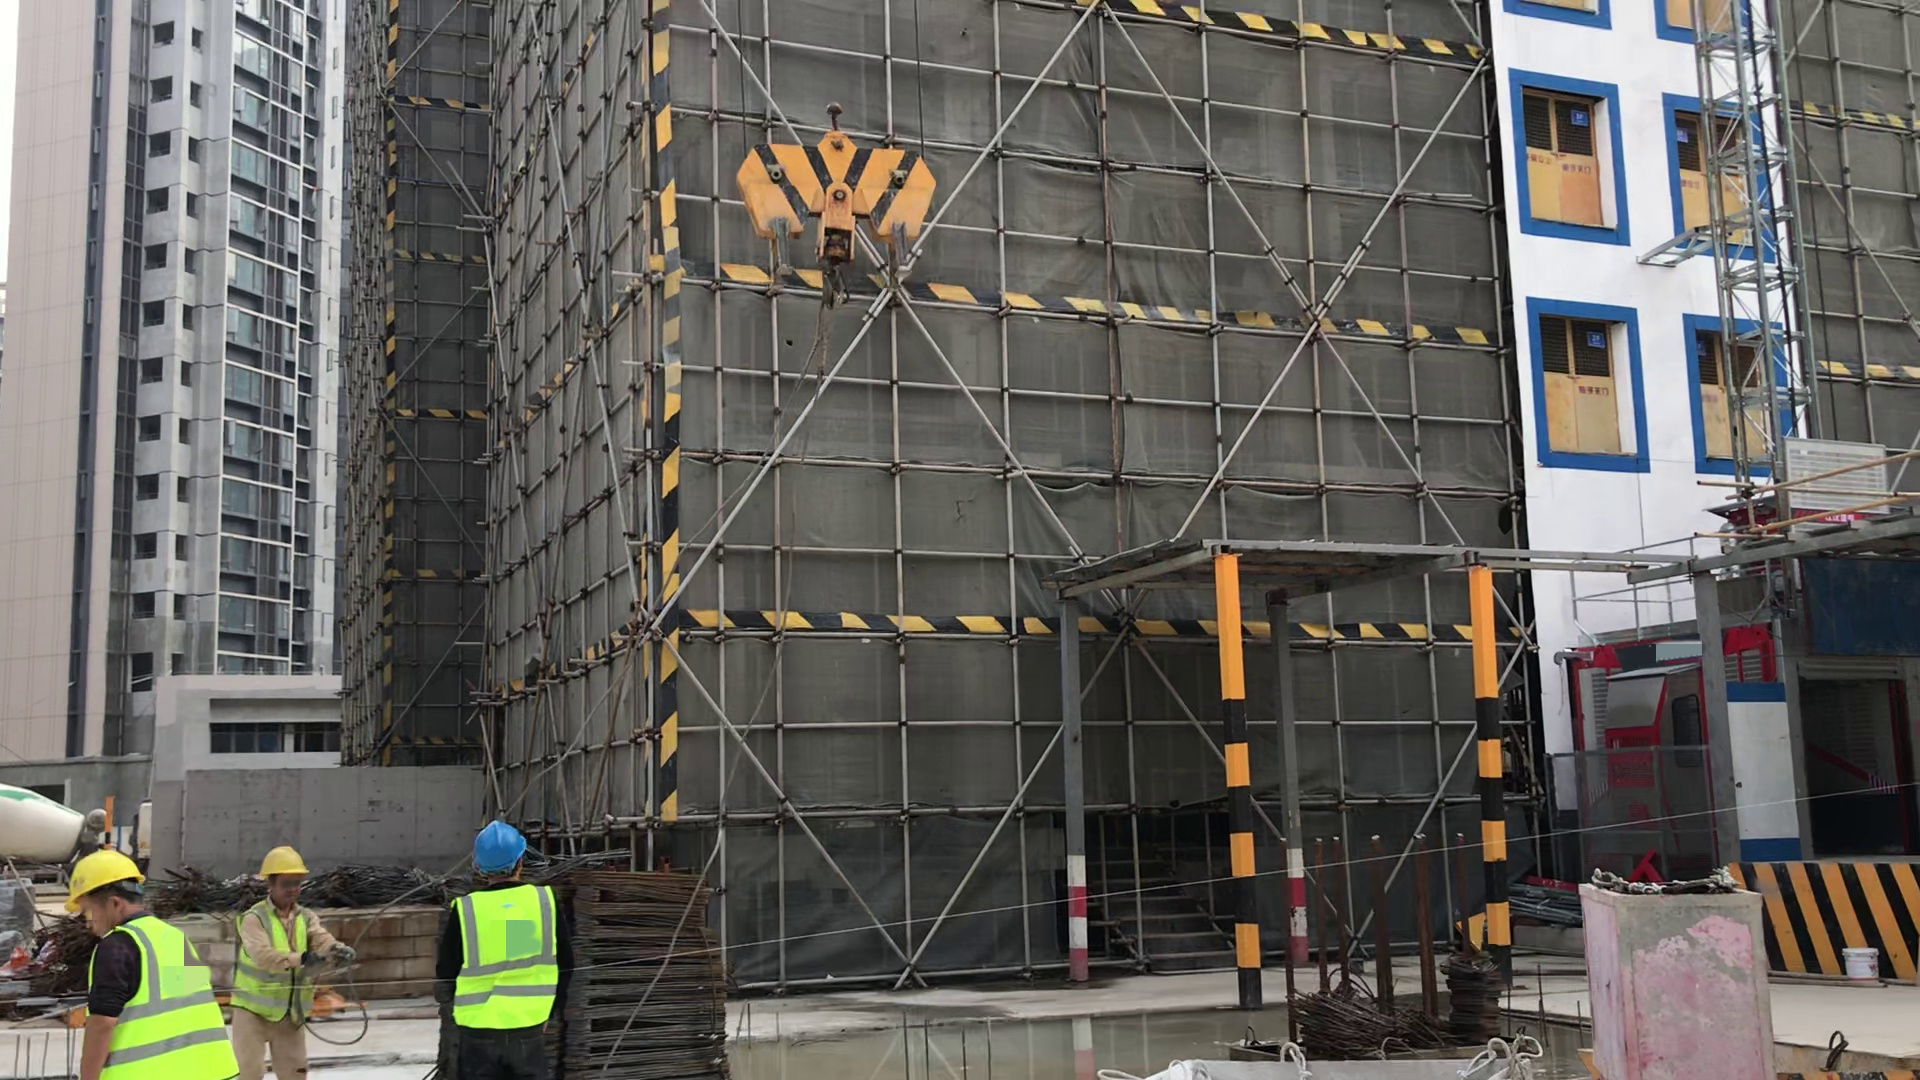helmet: (62, 848, 156, 902), (463, 823, 533, 871), (254, 852, 317, 878)
person: (48, 846, 236, 1080), (426, 823, 593, 1080), (223, 848, 363, 1080)
vest: (86, 932, 230, 1080), (449, 889, 562, 1030), (237, 896, 318, 1029)
